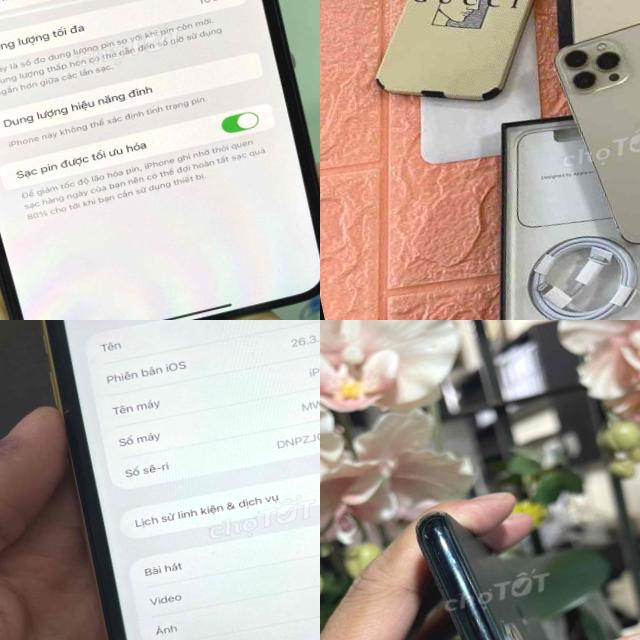gen_11: (19, 320, 320, 640), (396, 473, 592, 640)
gen_12_13: (541, 1, 640, 253)
gen_x_xs: (0, 0, 320, 320)
